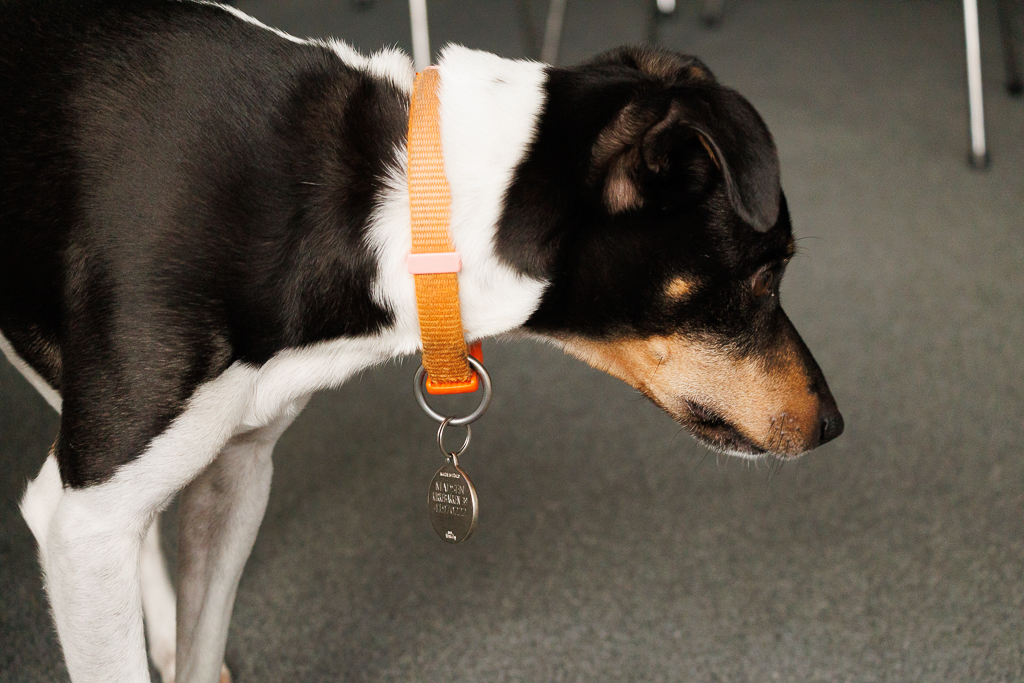Dog: (0, 0, 851, 683)
